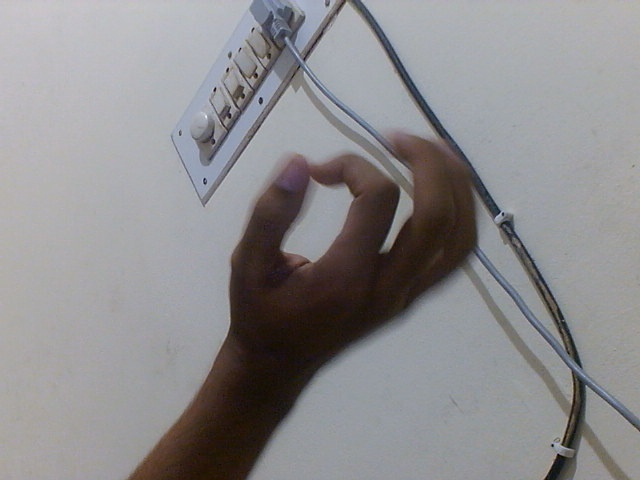hand: (207, 127, 486, 381)
